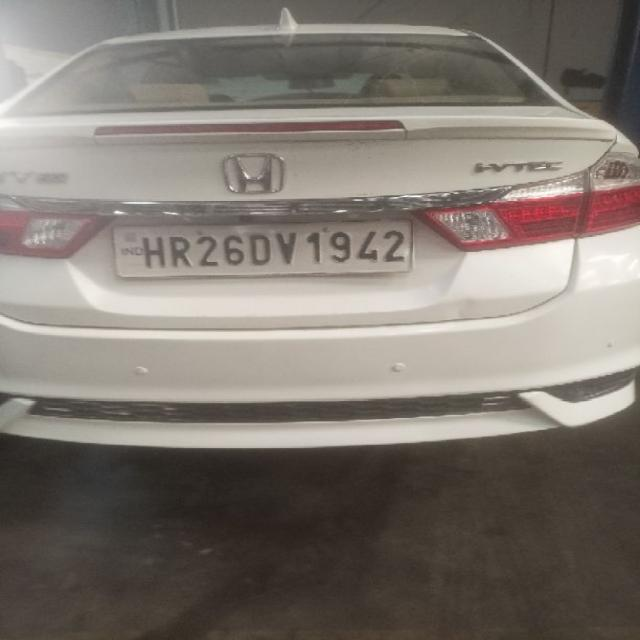license_plate: (110, 216, 414, 278)
